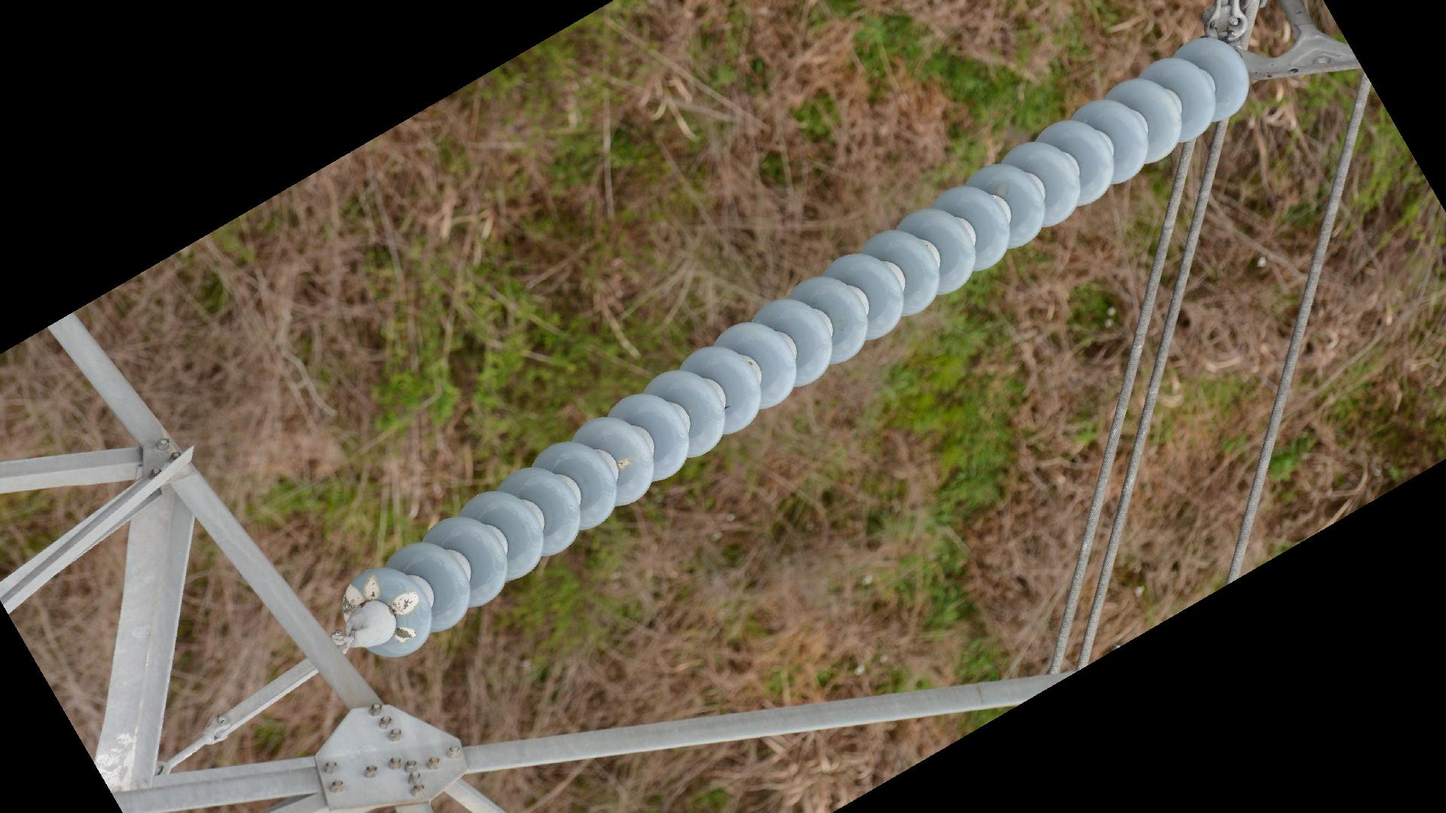insulator: (331, 32, 1258, 664)
insulator_flashover: (338, 574, 382, 624), (388, 589, 421, 618), (612, 454, 636, 473), (392, 626, 417, 644)
